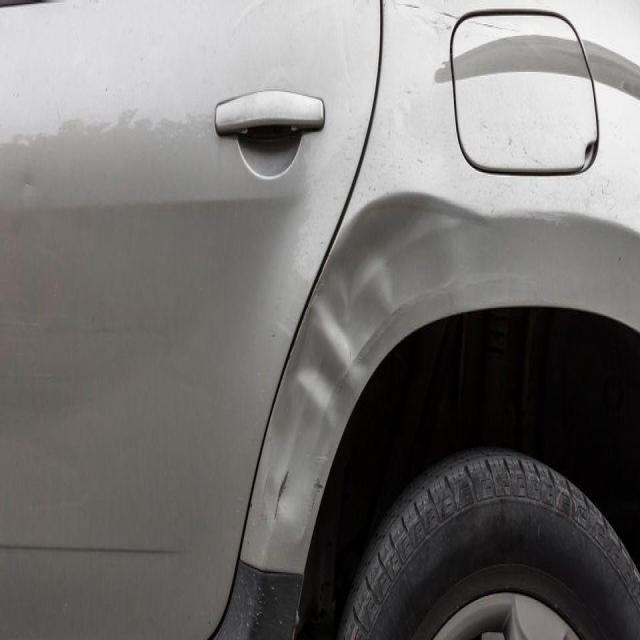dent: (280, 190, 439, 466)
